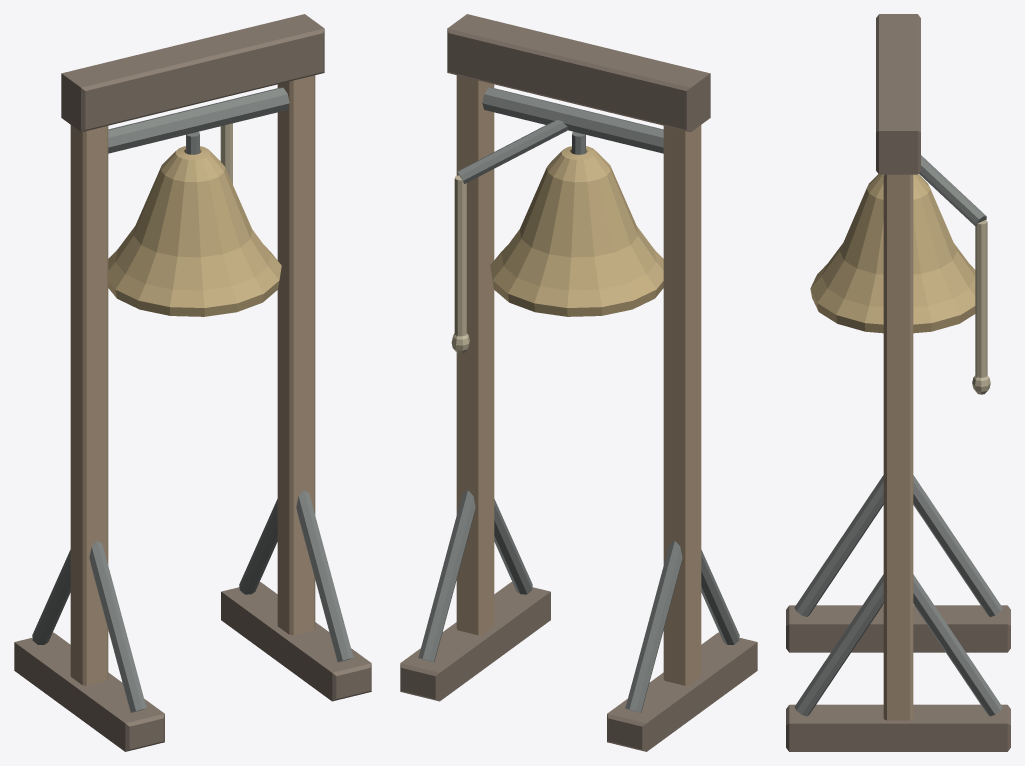
The model's file is Bell.fbx.
3 views of the same model, side by side, from view 1: azimuth 30°, elevation 25°; view 2: azimuth 150°, elevation 25°; view 3: azimuth 270°, elevation 25° (orthographic).
Parts seen in each view (by area): view 1: Body__Timber.005, Body__TimberDark.005, BellSwingPivot__Brass, Body__Steel.003, RopeSpanPivot__Rope; view 2: Body__Timber.005, Body__TimberDark.005, BellSwingPivot__Brass, Body__Steel.003, BellSwingPivot__Steel, RopeSpanPivot__Rope; view 3: Body__TimberDark.005, Body__Timber.005, BellSwingPivot__Brass, Body__Steel.003, RopeSpanPivot__Rope, BellSwingPivot__Steel.
Part boxes in pixels (x1,y1,x2,y2): Body__Timber.005: [70, 75, 315, 685]; Body__TimberDark.005: [14, 14, 371, 751]; BellSwingPivot__Brass: [108, 146, 281, 316]; Body__Steel.003: [32, 87, 353, 712]; RopeSpanPivot__Rope: [220, 123, 232, 184]; Body__Timber.005: [456, 75, 701, 685]; Body__TimberDark.005: [400, 14, 757, 751]; BellSwingPivot__Brass: [490, 146, 663, 316]; Body__Steel.003: [418, 87, 739, 712]; BellSwingPivot__Steel: [457, 120, 585, 183]; RopeSpanPivot__Rope: [454, 175, 466, 336]; Body__TimberDark.005: [786, 14, 1010, 751]; Body__Timber.005: [883, 174, 913, 720]; BellSwingPivot__Brass: [810, 174, 975, 333]; Body__Steel.003: [794, 475, 1002, 716]; RopeSpanPivot__Rope: [975, 220, 987, 392]; BellSwingPivot__Steel: [919, 155, 986, 226].
Size of the model in its own units: 0.81 by 1.98 by 0.65.
